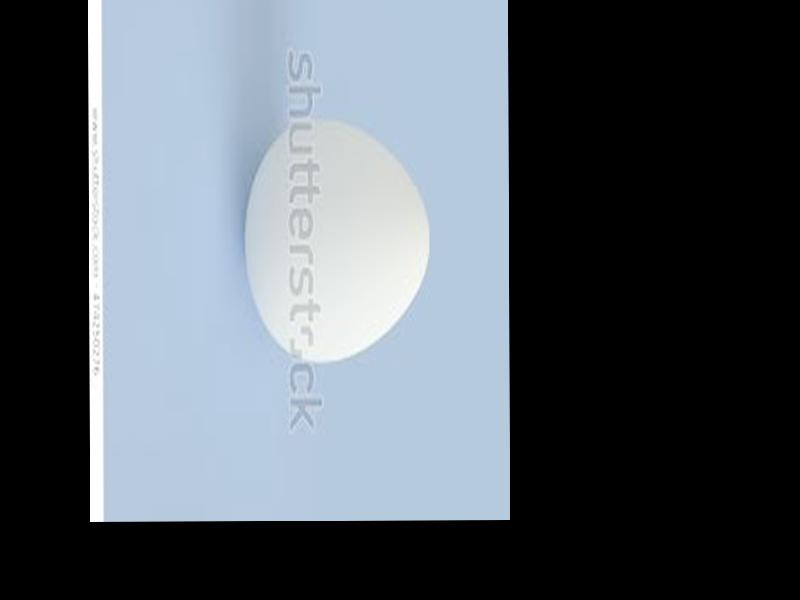Eggs: (242, 118, 429, 363)
